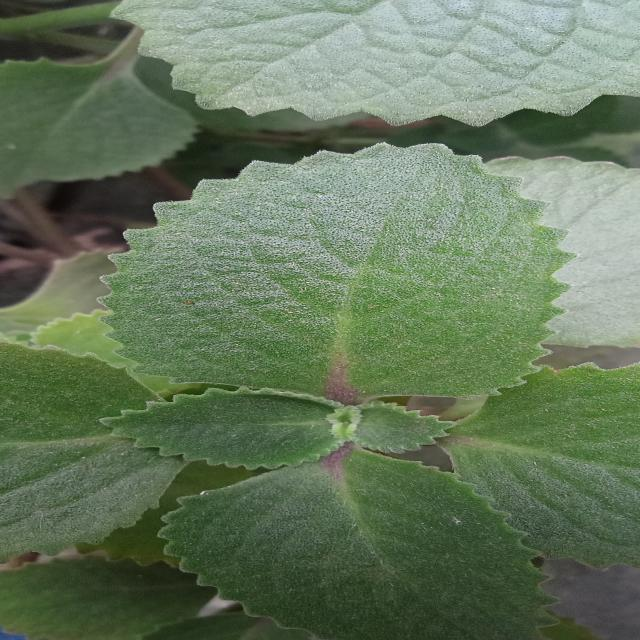Oregano: (42, 125, 606, 606)
